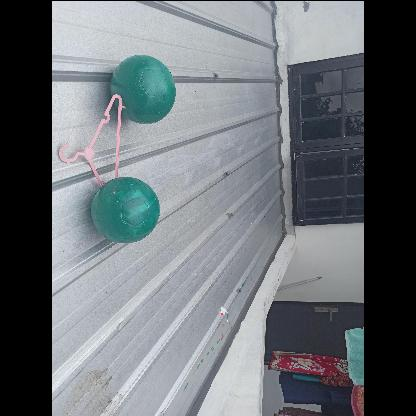green_ball: (91, 173, 161, 243), (110, 52, 178, 122)
